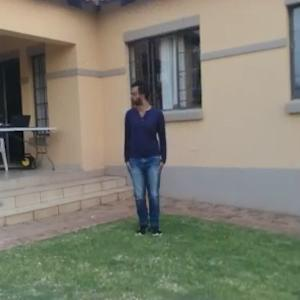follow: (117, 72, 169, 246)
